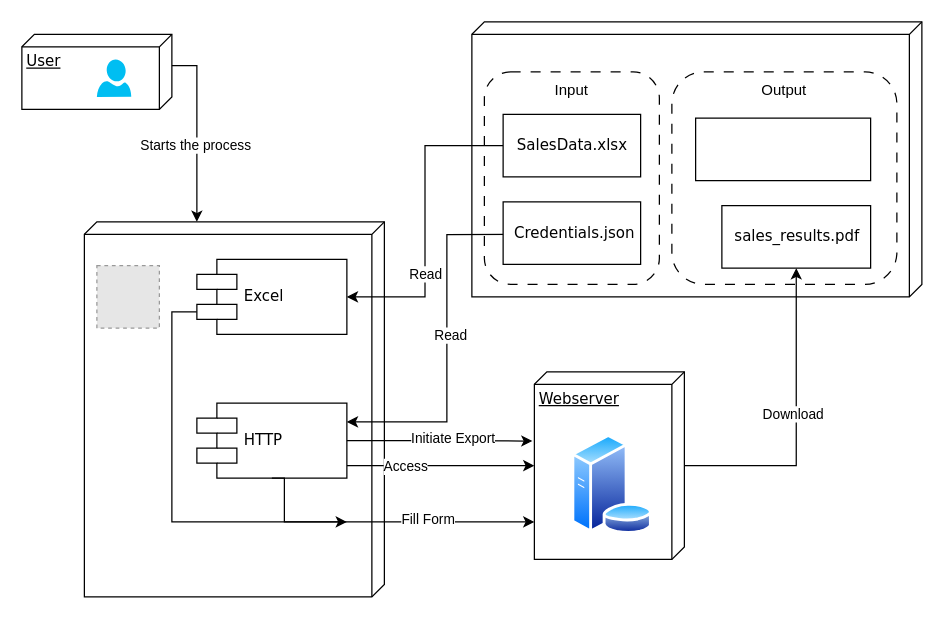
Image size: 944x619. Some labels were removed from this diagram. Grey dashed boxes stand in for pictures. Here are the shapes that lost their labels. From the top down, the box of each, then its label:
(471, 21, 922, 297): File System
(694, 117, 871, 181): sales_summary.png
(83, 221, 384, 597): Robot
